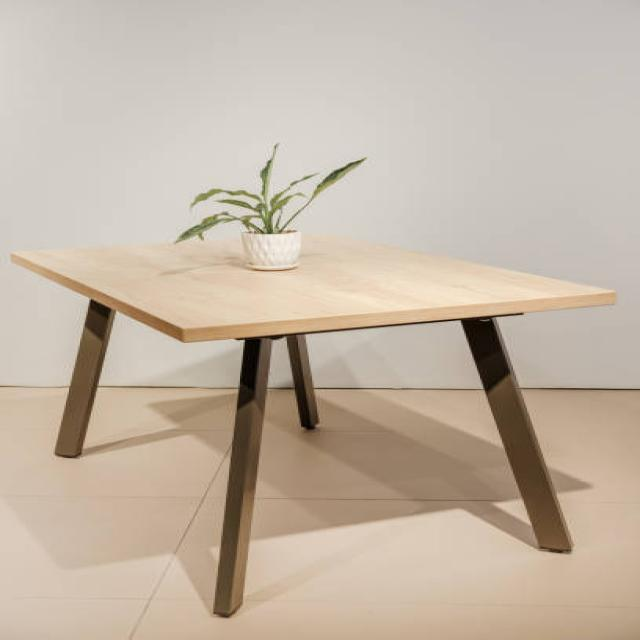table: (8, 231, 616, 617)
